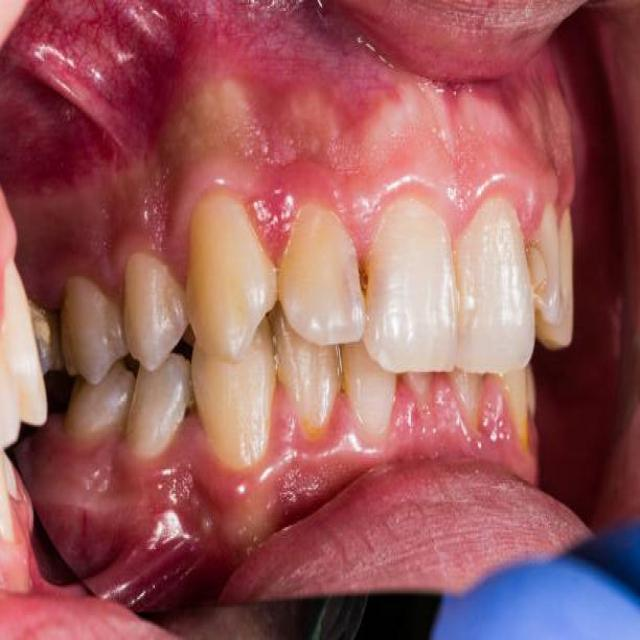caries: (519, 229, 564, 316), (346, 243, 394, 309)
